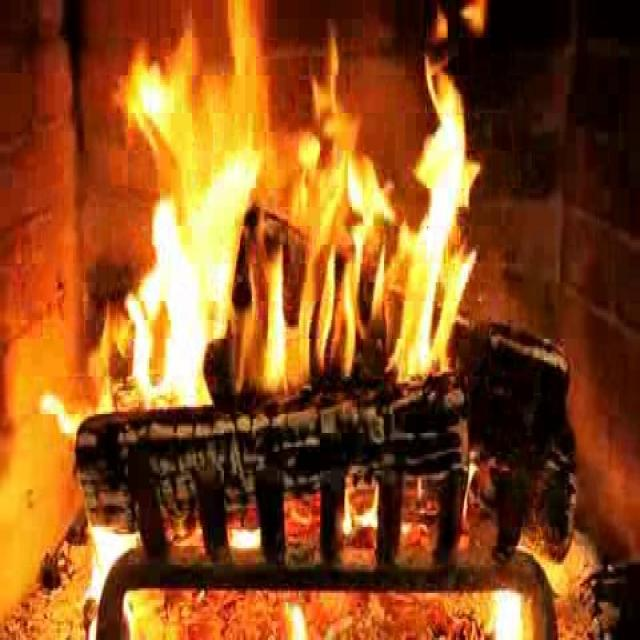smoke: (120, 15, 484, 408)
